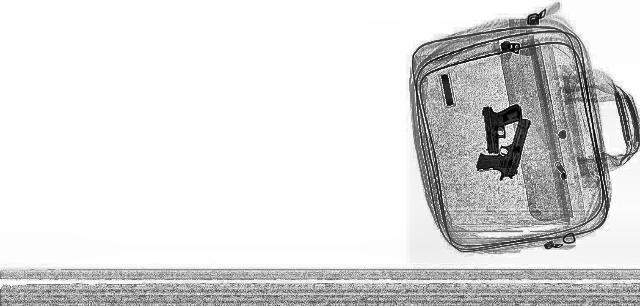Gun: (473, 117, 533, 178), (480, 104, 528, 154)
